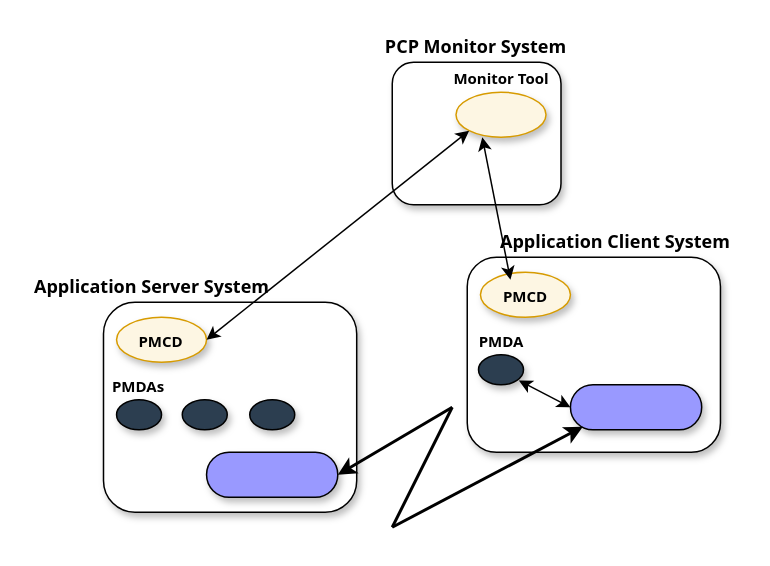
This 770x566 diagram has some shape labels left out. The centre of each missing label's shape, as x and y in pixels:
"Application Server" belongs at (273,476).
"Client Application" belongs at (637,408).
